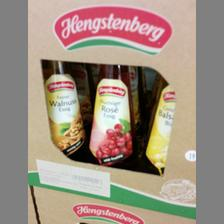Essig: (88, 64, 138, 170), (40, 60, 86, 160), (144, 68, 178, 180)
